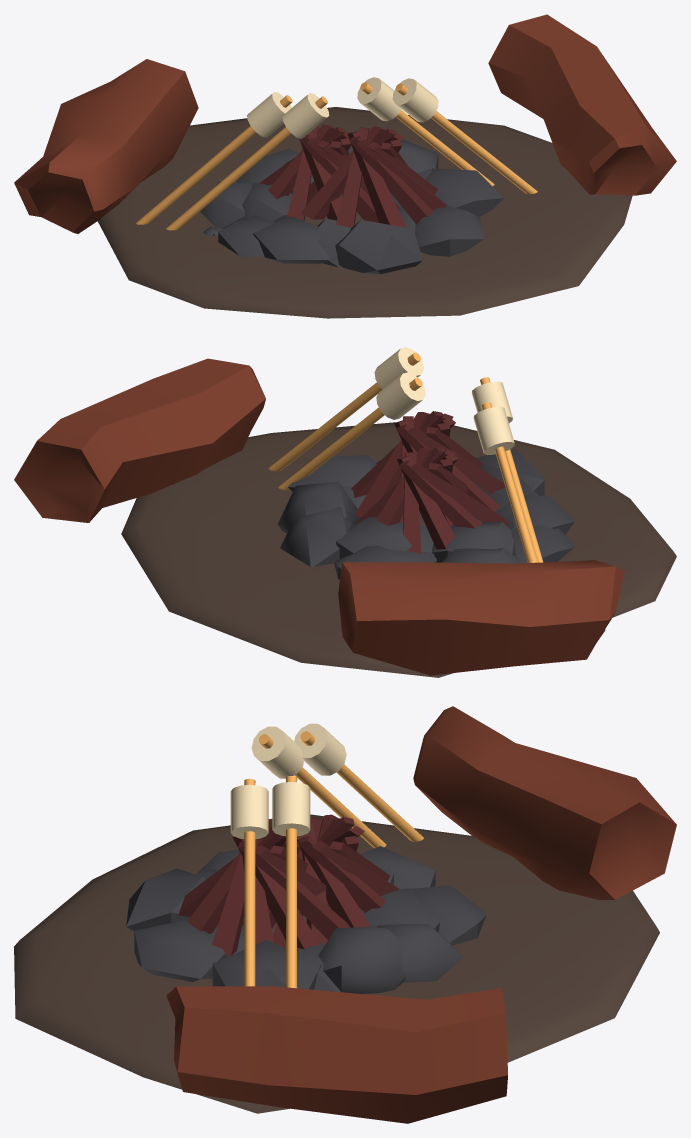
Rendered from campfire.fbx.
3 views of the same model, one above another, from view 1: azimuth 30°, elevation 25°; view 2: azimuth 150°, elevation 25°; view 3: azimuth 270°, elevation 25° (orthographic). The views are drawn at different scales.
Visible parts, largest first — view 1: campfire; view 2: campfire; view 3: campfire.
Boxes of the visible parts, bbox=[...] form: campfire: bbox=[14, 14, 676, 318]; campfire: bbox=[14, 347, 676, 677]; campfire: bbox=[14, 706, 676, 1123].
Size of the model in its own units: 17.06 by 4.97 by 14.04.
